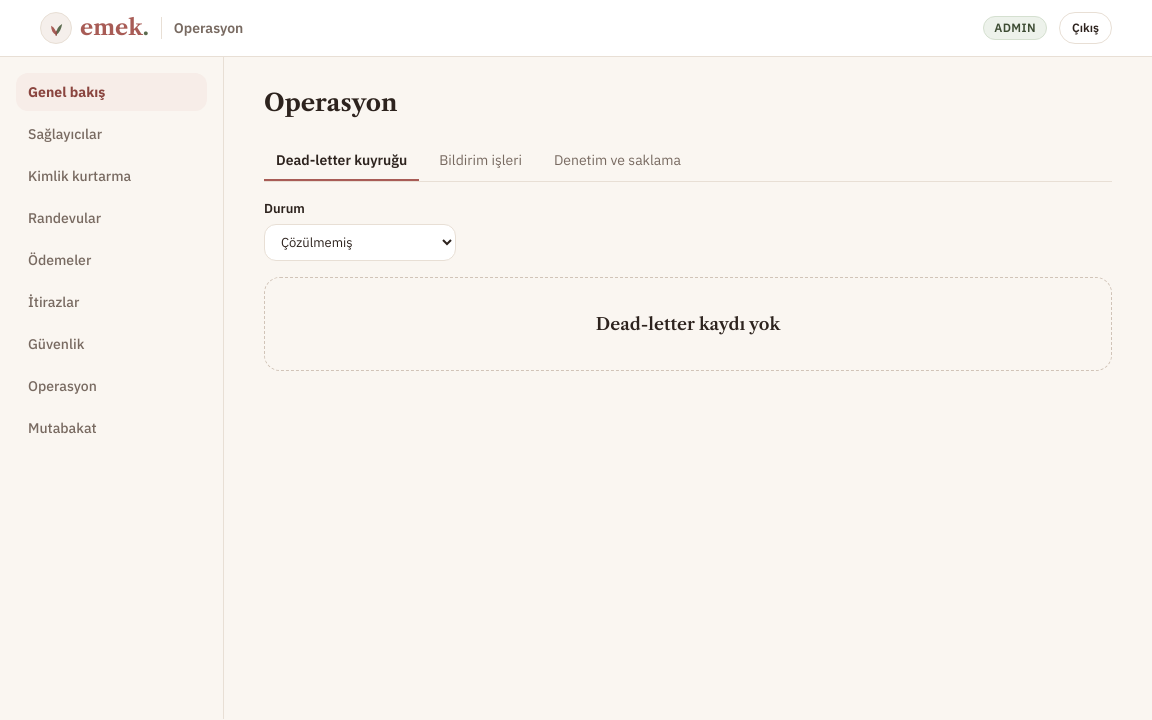
operasyon › saklama taraması onay kutusu olmadan çalışmaz; sonucu gösterir
Click the tab "Denetim ve saklama" at (617, 161), box x1=542 y1=141 x2=693 y2=181
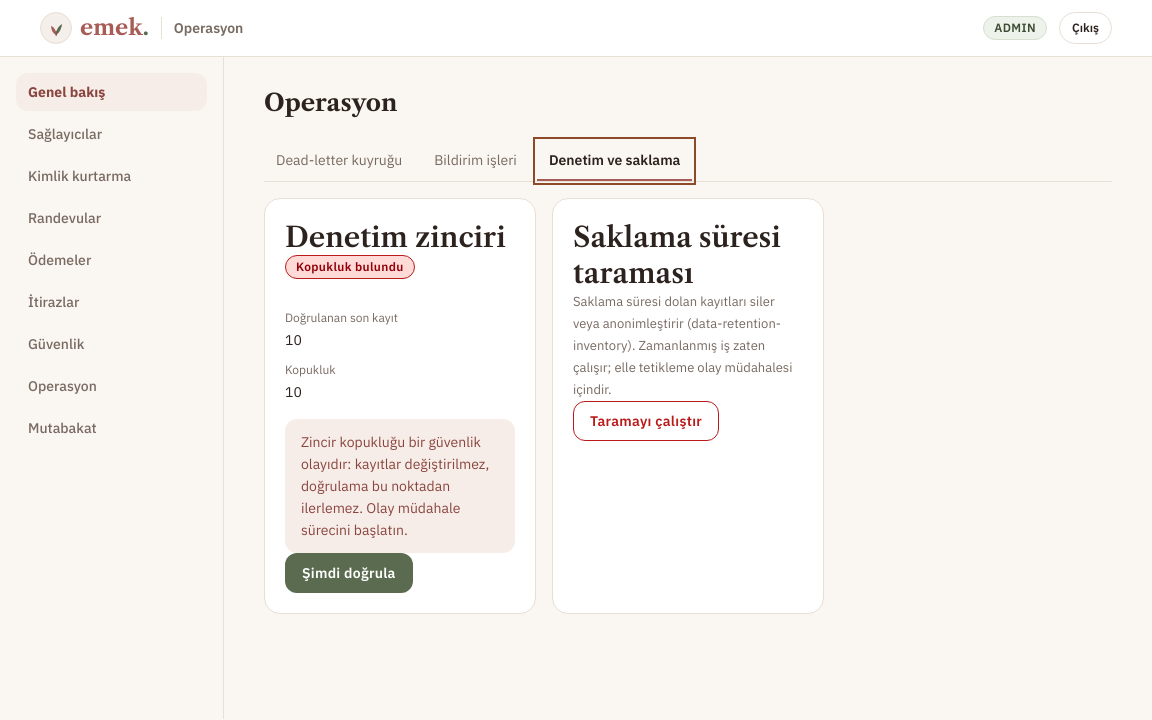
Now the text "Kopukluk bulundu" is shown, box x1=285 y1=255 x2=415 y2=279
Click the button "Taramayı çalıştır" at (646, 421), box x1=573 y1=401 x2=719 y2=441
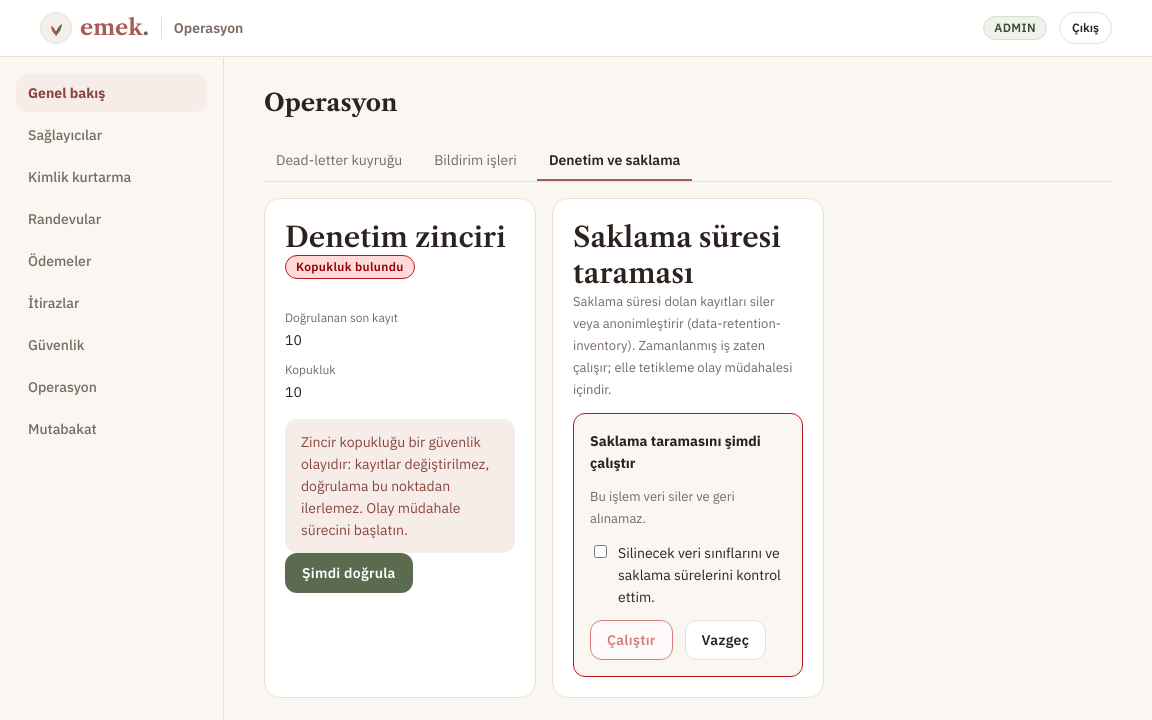
Now the button "Çalıştır" is disabled, box x1=590 y1=620 x2=673 y2=660
Click the checkbox at (600, 552), box x1=594 y1=545 x2=607 y2=558
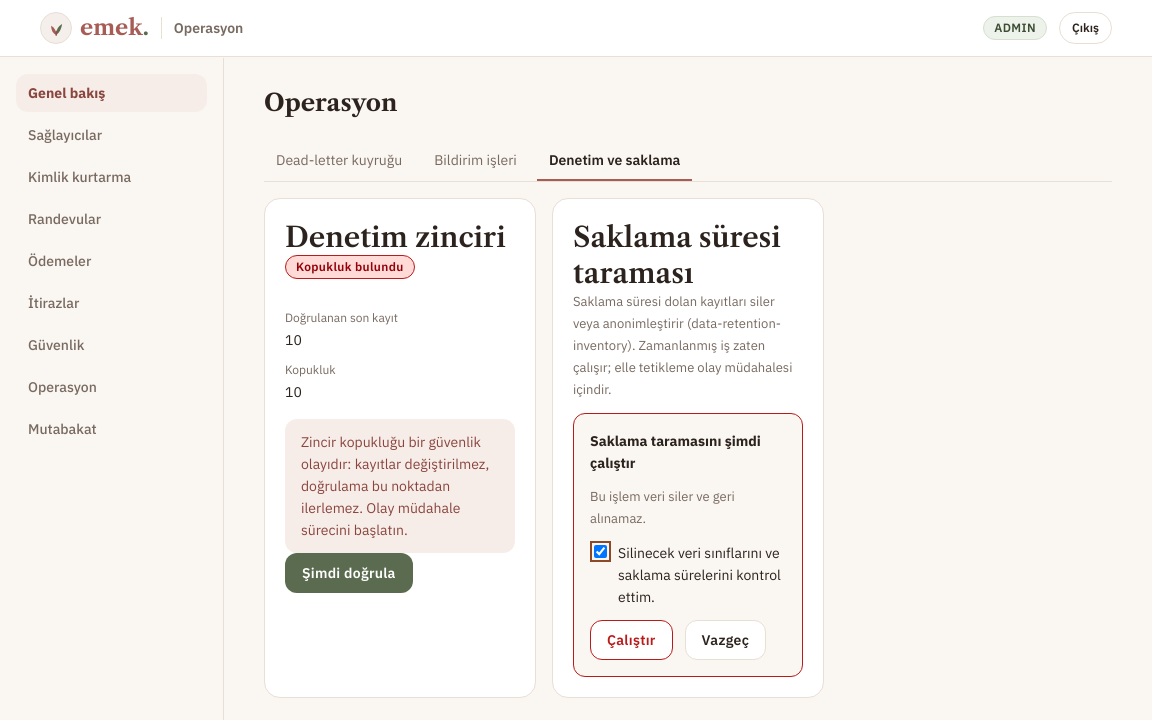
Click the button "Çalıştır" at (631, 640), box x1=590 y1=620 x2=673 y2=660
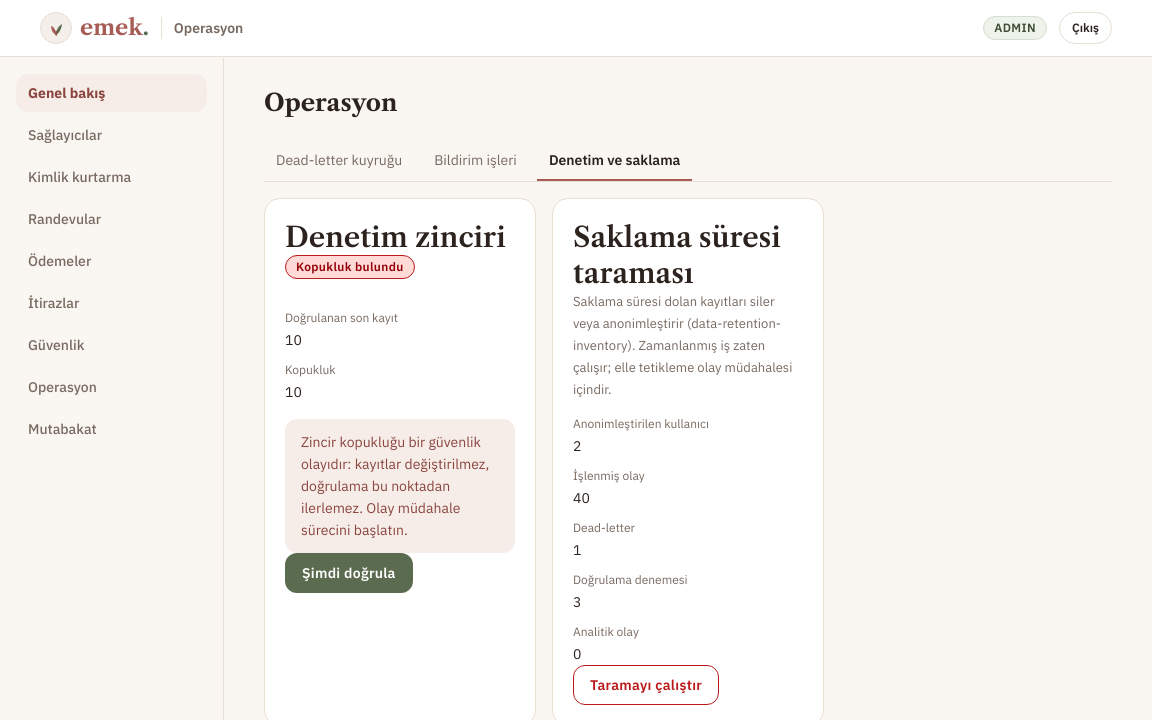
Now the text "40" is shown, box x1=573 y1=489 x2=590 y2=507
